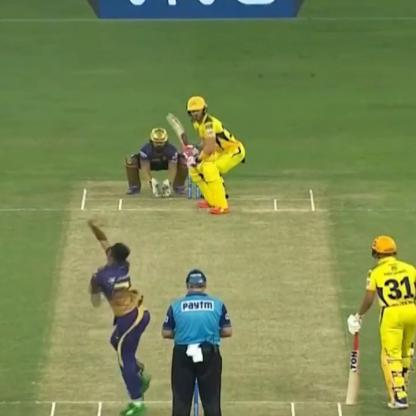bat: (157, 106, 202, 160), (341, 306, 365, 405)
pitch: (42, 173, 364, 416)
